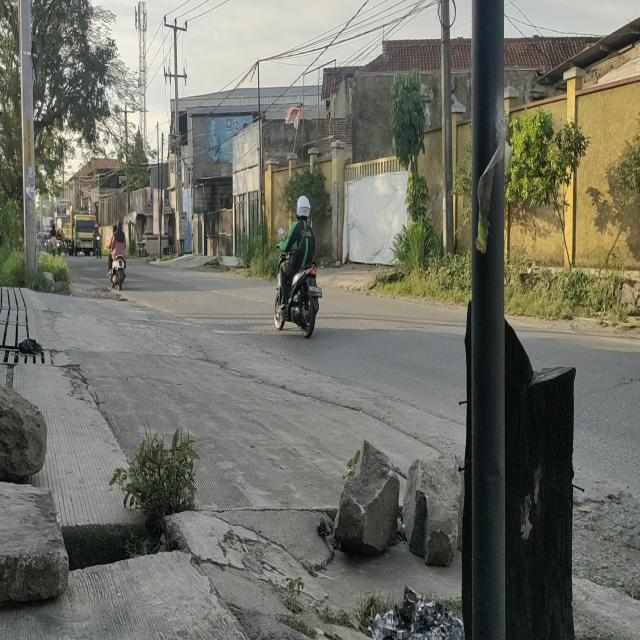helmet: (296, 195, 310, 222)
no-helmet: (117, 222, 124, 233), (112, 222, 117, 234)
